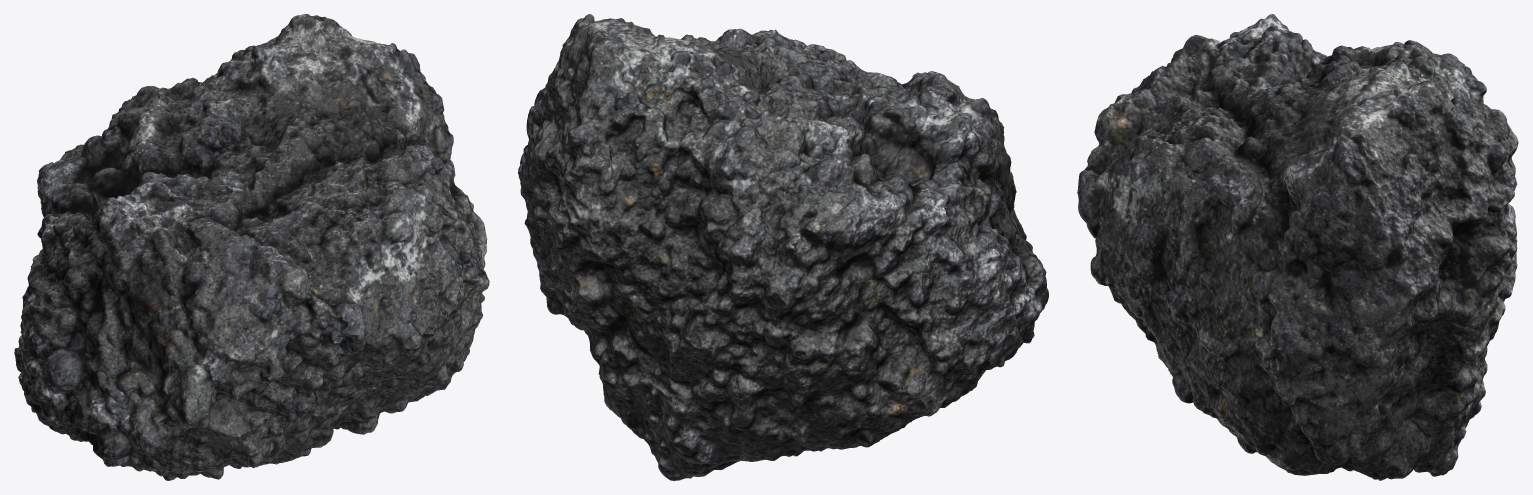
3 renders of one model, left to right at view 1: azimuth 30°, elevation 25°; view 2: azimuth 150°, elevation 25°; view 3: azimuth 270°, elevation 25°, orthographic. The views are drawn at different scales.
Parts seen in each view (by area): view 1: MIL15307-0_SFM_Web-Resolution-Model_Coordinate-Unregistered.; view 2: MIL15307-0_SFM_Web-Resolution-Model_Coordinate-Unregistered.; view 3: MIL15307-0_SFM_Web-Resolution-Model_Coordinate-Unregistered..
Boxes of the visible parts, x1=… form: MIL15307-0_SFM_Web-Resolution-Model_Coordinate-Unregistered.: x1=14, y1=14, x2=489, y2=480; MIL15307-0_SFM_Web-Resolution-Model_Coordinate-Unregistered.: x1=518, y1=14, x2=1048, y2=480; MIL15307-0_SFM_Web-Resolution-Model_Coordinate-Unregistered.: x1=1077, y1=14, x2=1518, y2=480.
Size of the model in its own units: 0.0364 by 0.031 by 0.029.
1 material, 1 textured.
